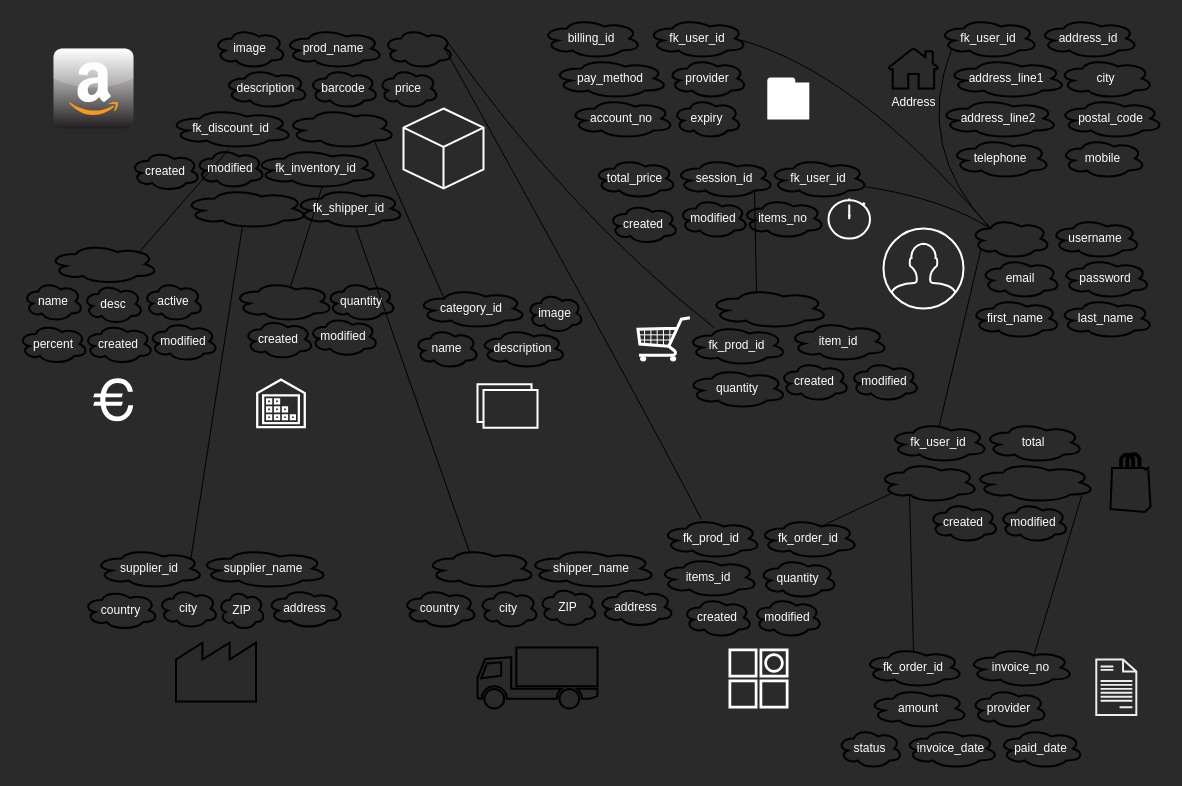
Some shapes in this 1182 by 786 pixel diagram are drawn without their labels. Here are the shapes that lost their labels. From the top down, the centre of each, then its label:
(418,48): prod_id
(93,88): E-Commerce Site
(788,98): Billing info
(340,128): fk_category_id
(443,148): Products
(245,208): fk_supplier_id
(848,218): Session
(1010,238): user_id
(103,263): discount_id
(923,268): User
(283,301): inventory_id
(768,308): fk_session_id
(663,339): Cart item
(113,399): Discount
(281,403): Inventory
(507,405): Category
(928,482): order_id
(1033,482): fk_invoice_no
(1130,482): Order details
(480,568): shipper_id
(215,671): Supplier
(537,677): Shipper
(758,678): Order items
(1116,687): Order invoice
